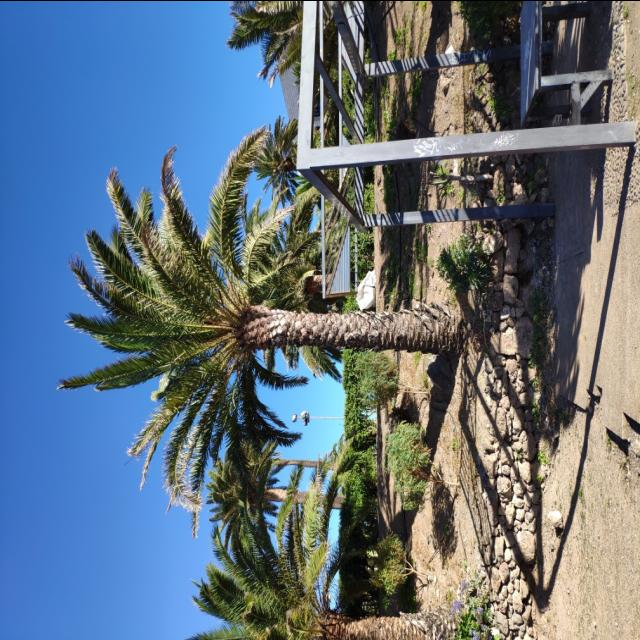Palm-Trees: (54, 125, 465, 510), (177, 485, 452, 640)
